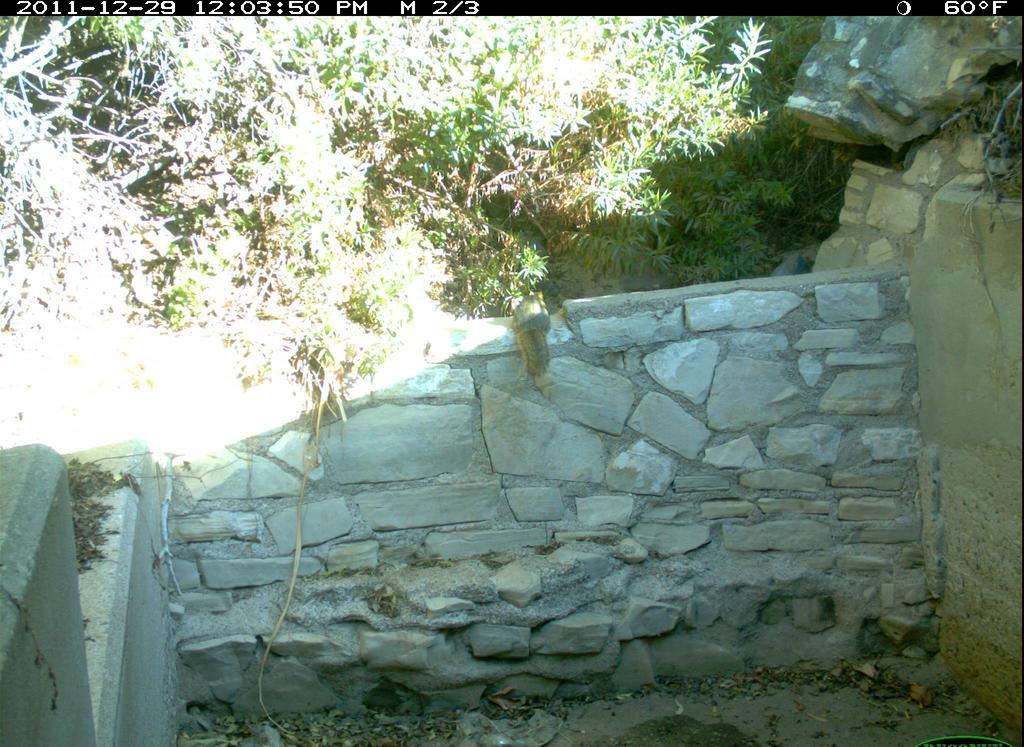squirrel: (506, 286, 561, 395)
